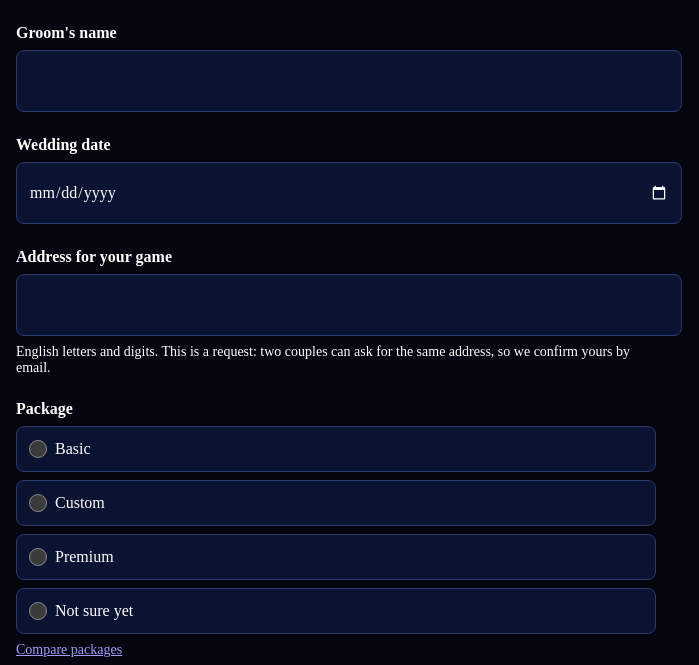
OrderPage (component): address field › test_slug_status_live: demowedding is taken
(page scrolled)
In the field labelled "Address for your game": (349, 305) left=16, top=274, right=682, bottom=336, type "demowedding"
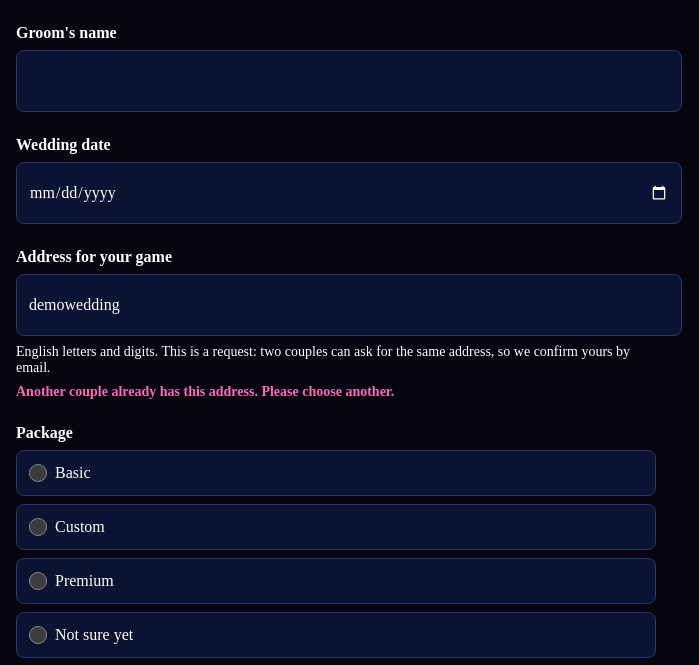
Result: the message with test id "order-slug-status" reads "Another couple already has this address. Please choose another." at left=16, top=384, right=394, bottom=399
